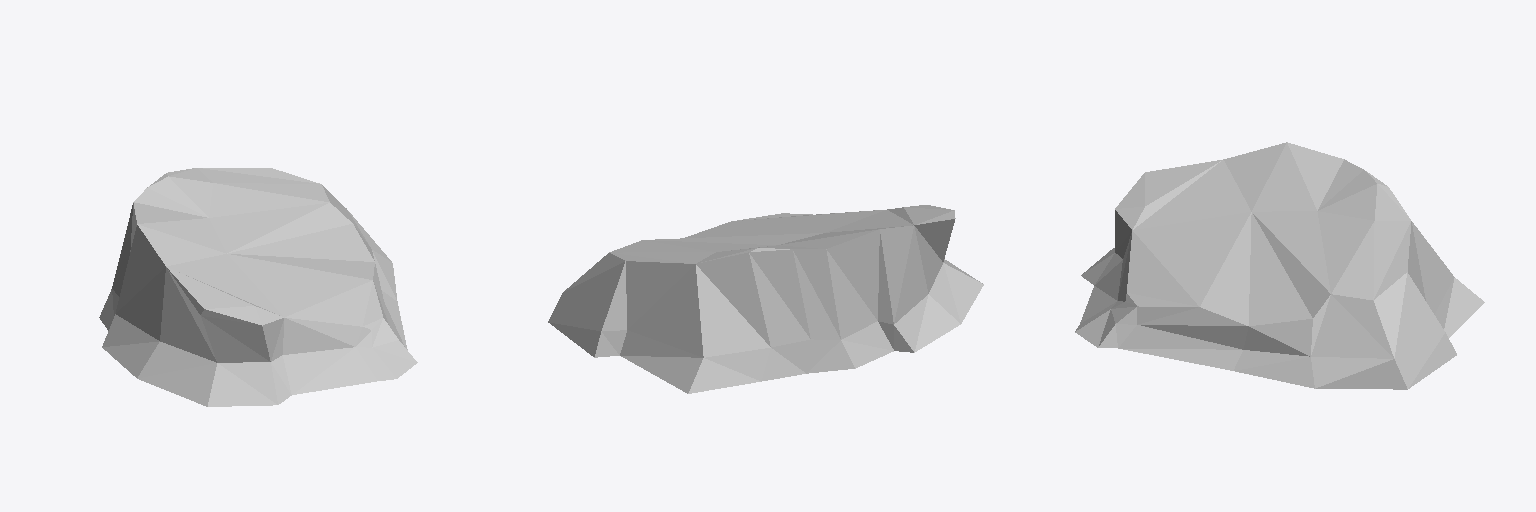
File: icecrown_rock_02.obj
The picture shows the model from 3 angles: view 1: azimuth 30°, elevation 25°; view 2: azimuth 150°, elevation 25°; view 3: azimuth 270°, elevation 25°; orthographic projection.
Parts seen in each view (by area): view 1: icecrown_rock_02; view 2: icecrown_rock_02; view 3: icecrown_rock_02.
Part boxes in pixels (x1,y1,x2,y2): icecrown_rock_02: (99, 168, 417, 406); icecrown_rock_02: (548, 205, 983, 393); icecrown_rock_02: (1075, 142, 1484, 389).
Size of the model in its own units: 10.21 by 3.59 by 11.63.